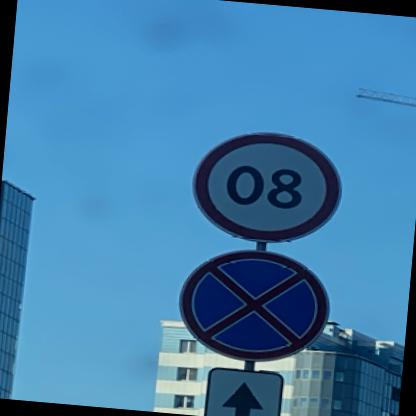speedlimit: (186, 124, 349, 248)
